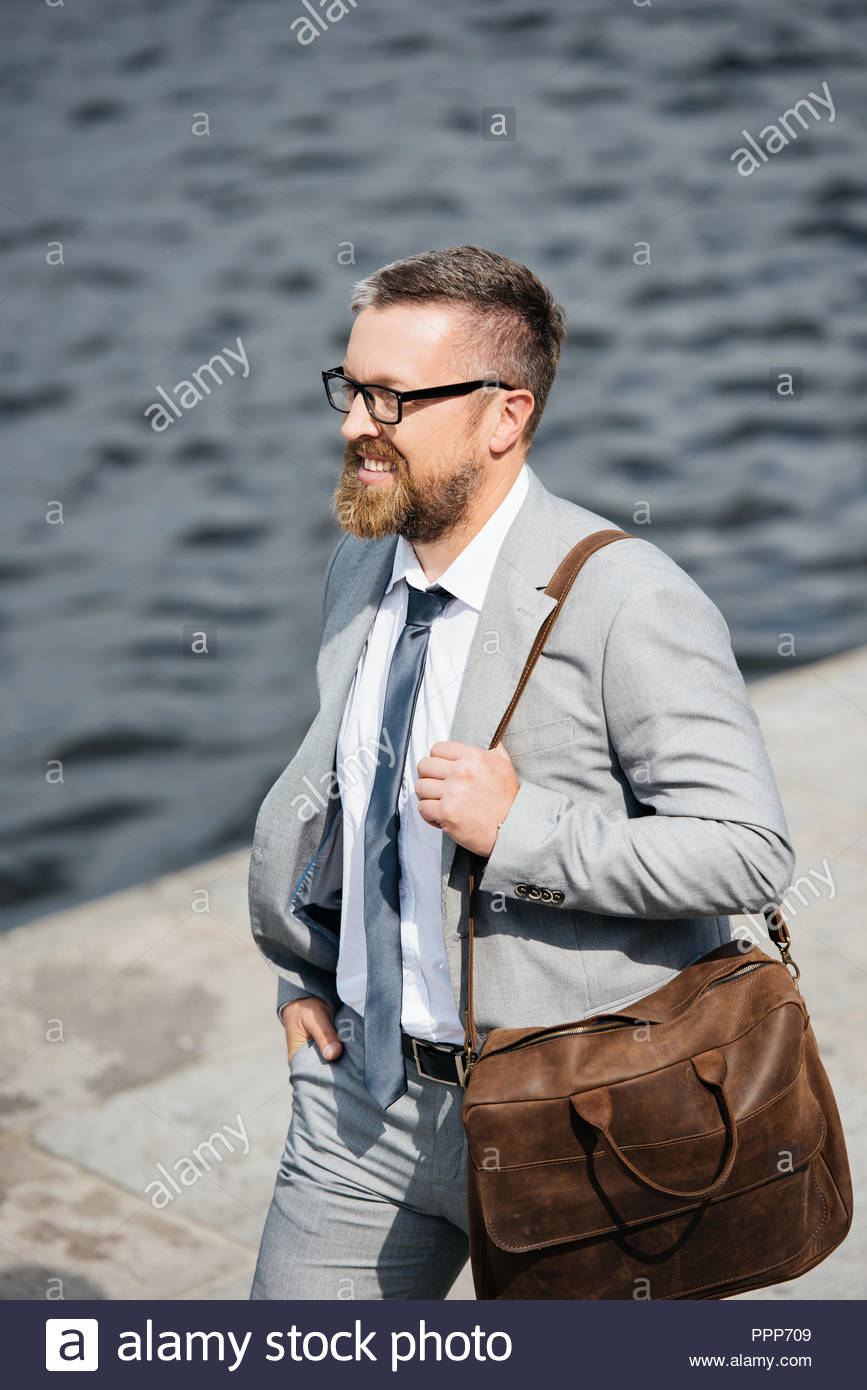shoulder bag: (414, 508, 859, 1312)
